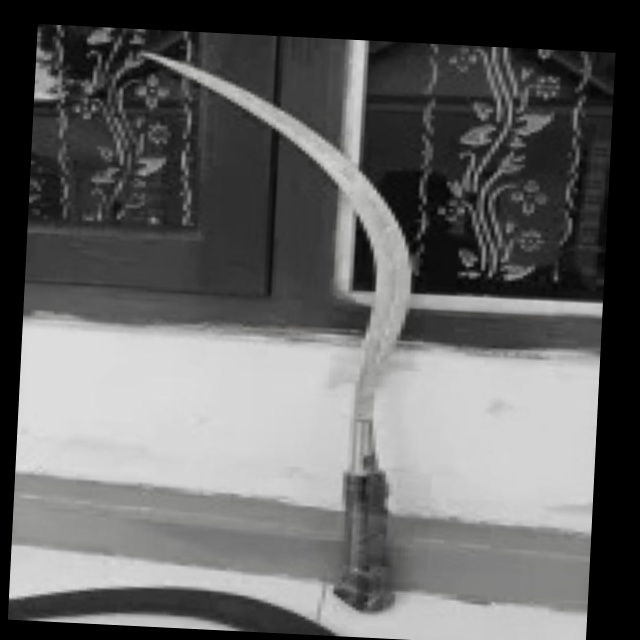Sharp-Object: (112, 50, 452, 626)
